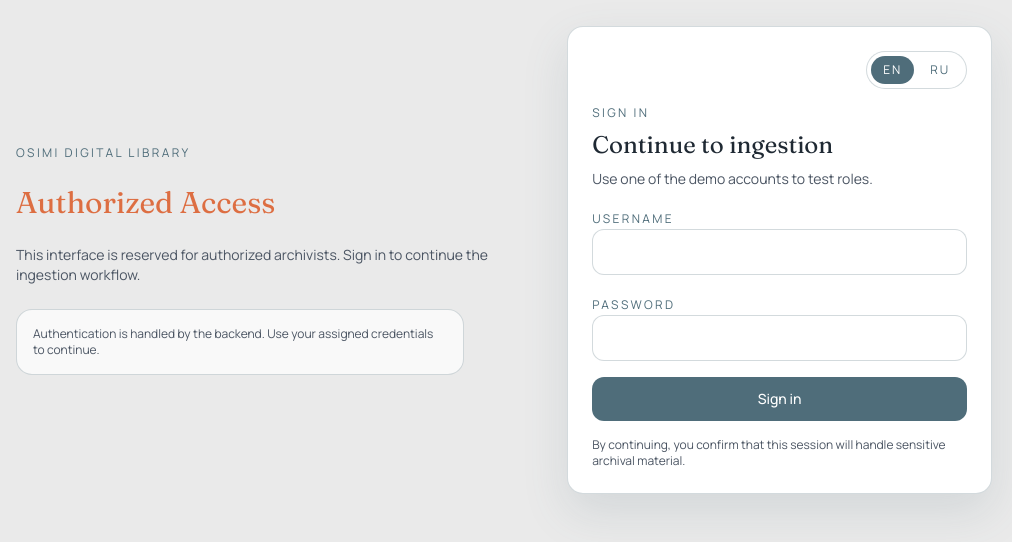
it: login page localization › switches login copy to Russian immediately
Step 1. Click the button "RU" → click(940, 70), box [918,56,962,84]
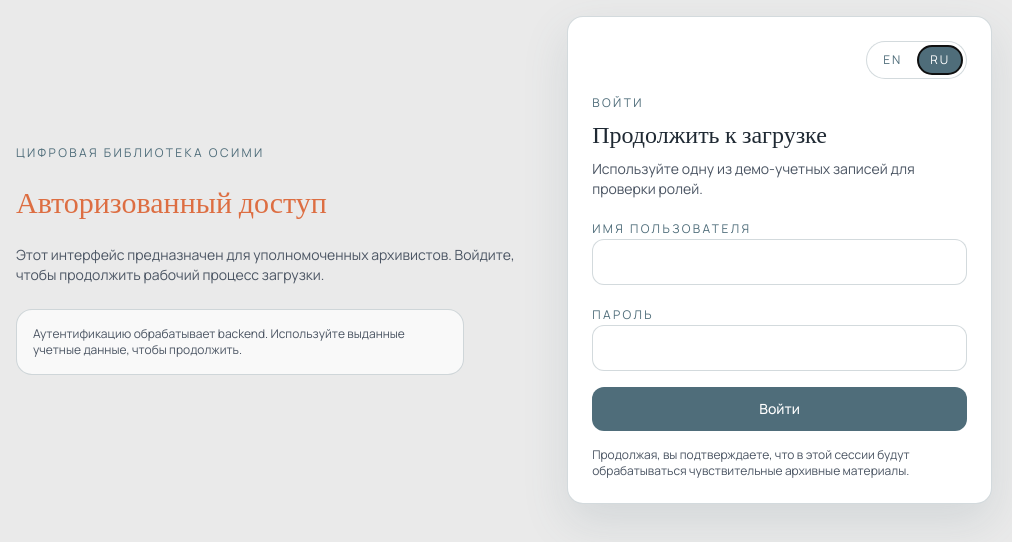
Result: the heading "Авторизованный доступ" is shown at [16,184,327,221]
Result: the button "Войти" is shown at [592,387,967,431]
Result: the element named "Язык интерфейса" is shown at [866,41,967,79]
